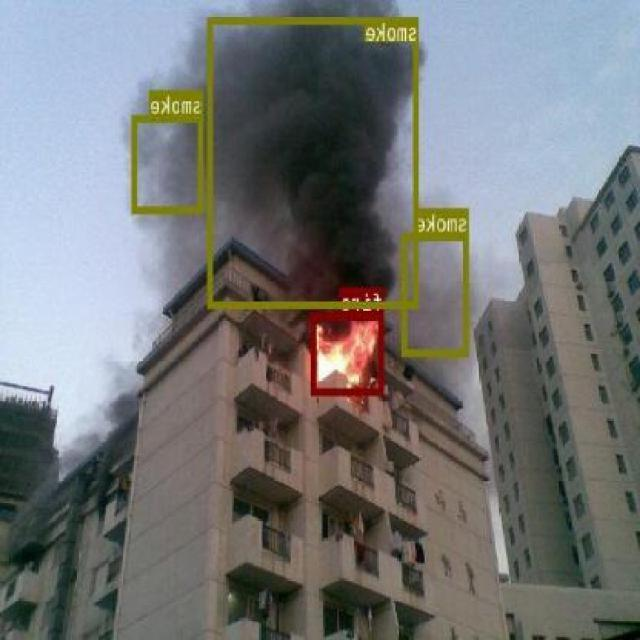Fire: (312, 312, 385, 394)
Smoke: (208, 16, 421, 306), (403, 232, 469, 356), (132, 115, 205, 212)
